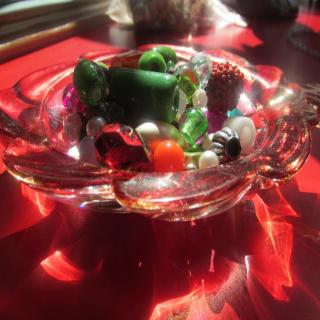tomato: (154, 136, 182, 172)
